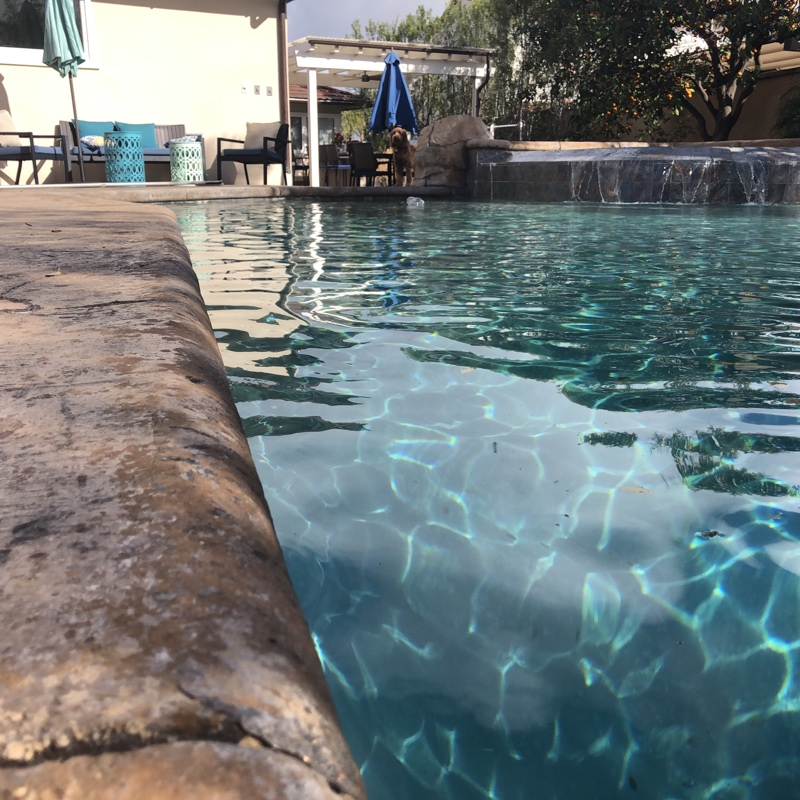Plastic Bottle: (403, 195, 425, 211)
